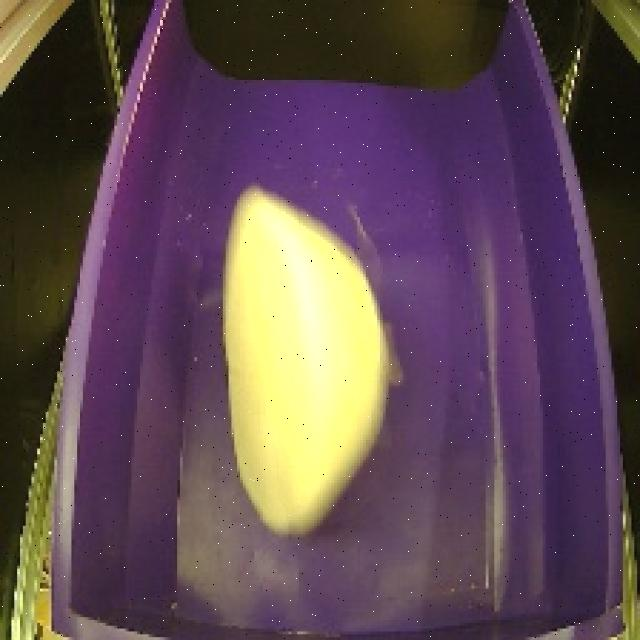white_radish: (211, 176, 396, 542)
